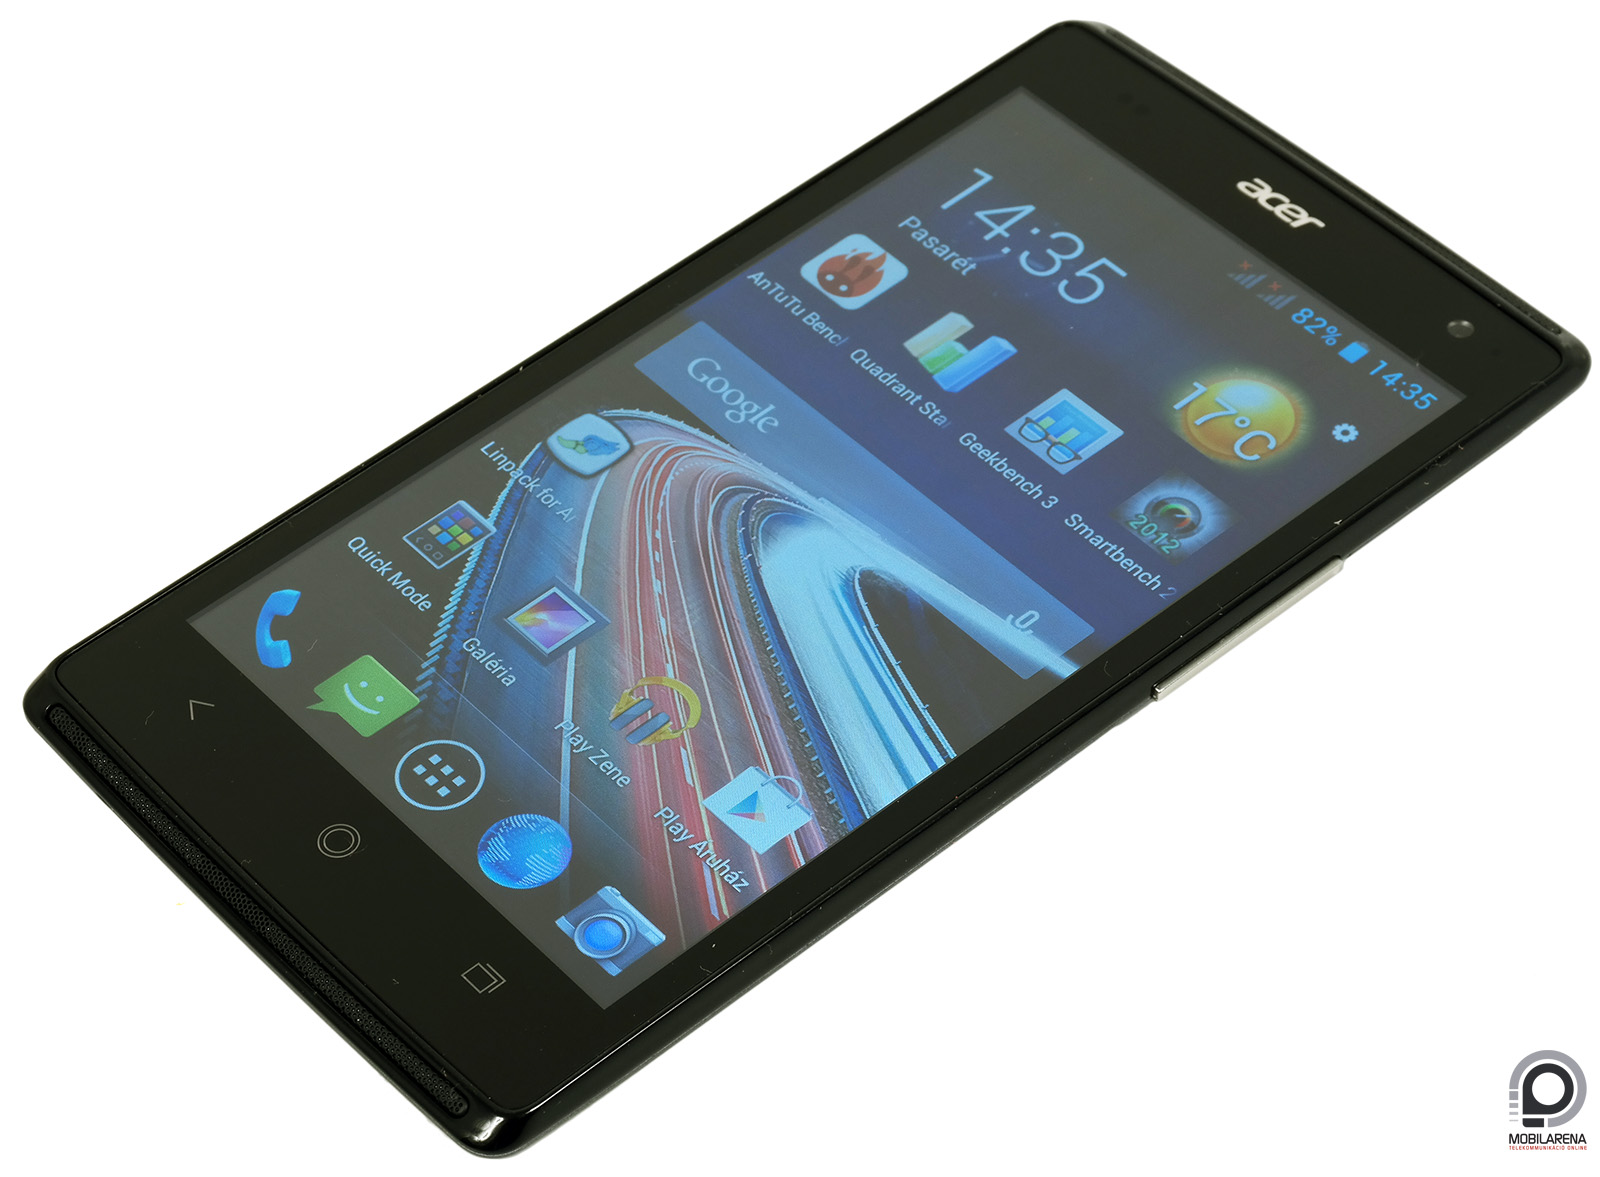smartphone: (22, 19, 1593, 1160)
